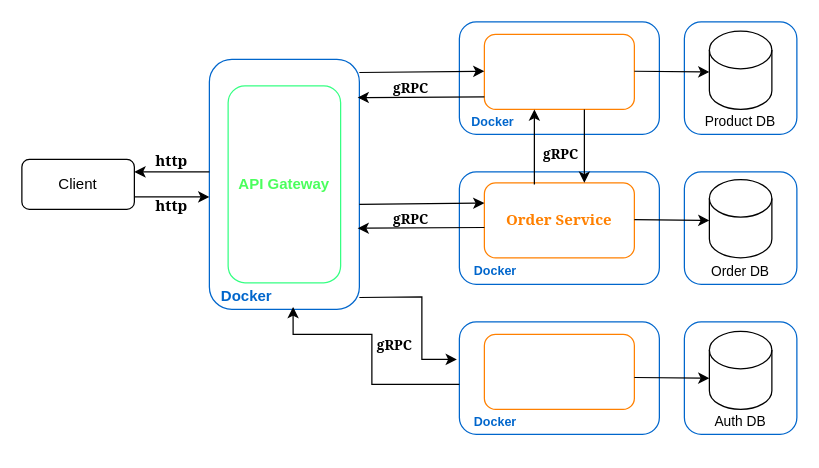
This 819x468 diagram has some shape labels left out. The box of each missing label's shape, as (x1, y1, x2, y2) in pixels:
Auth Service: (483, 333, 634, 409)
Product Service: (483, 33, 634, 109)
